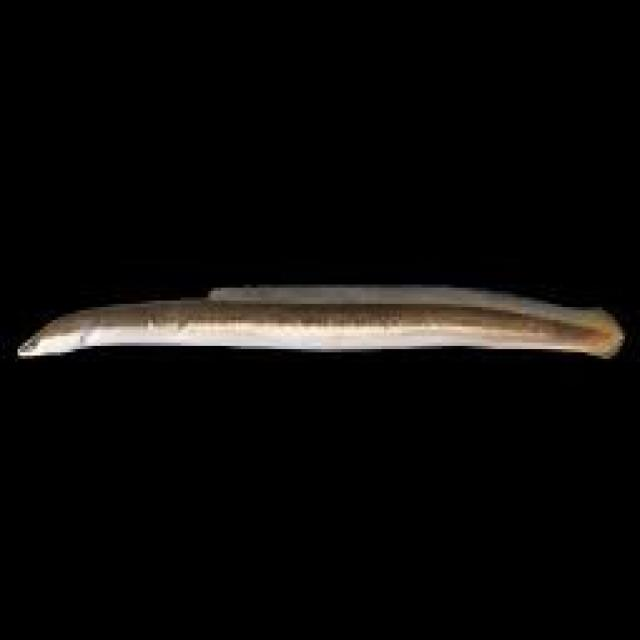Freshwater-Eel: (0, 247, 620, 420)
